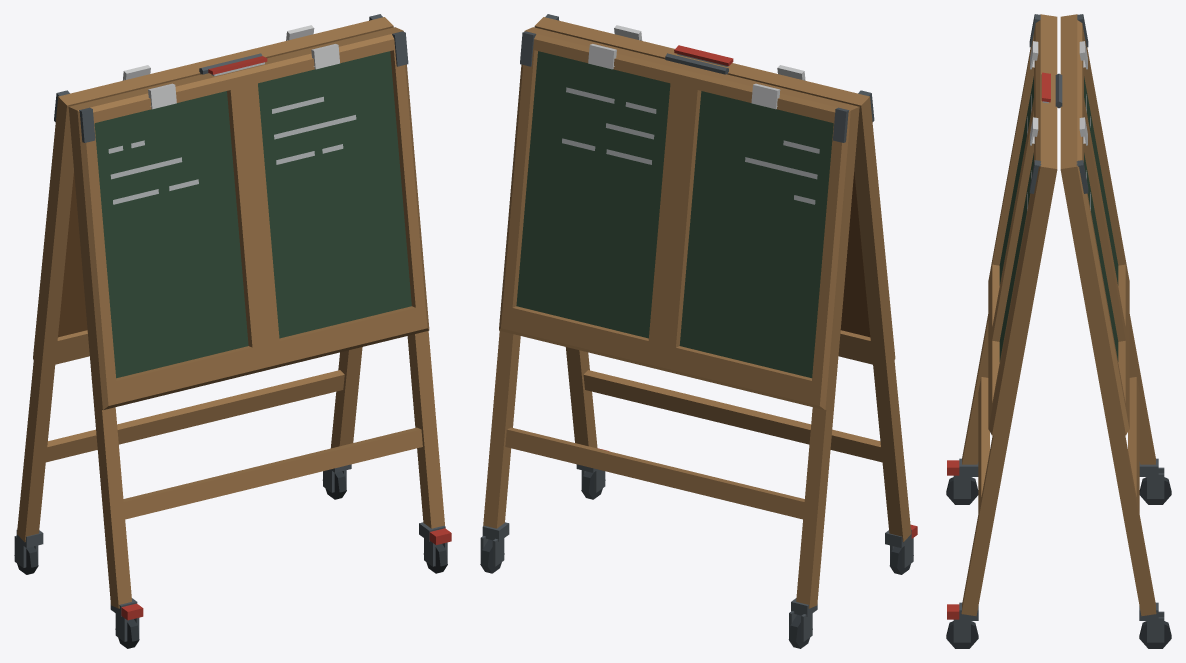
The model's file is wheeled-easel-board-6f9204.glb.
3 views of the same model, side by side, from view 1: azimuth 30°, elevation 25°; view 2: azimuth 150°, elevation 25°; view 3: azimuth 270°, elevation 25° (orthographic). The views are drawn at different scales.
Visible parts, largest first — view 1: leaf-front, easel, castor-fr, castor-fl, castor-rl; view 2: easel, leaf-front, castor-rr, castor-fl, castor-rl; view 3: easel, leaf-front, castor-fl, castor-fr, castor-rl, castor-rr, tyre-fr, tyre-rr, tyre-fl, tyre-rl.
Boxes of the visible parts, box(x1,y1,x2,y2) form: leaf-front: box(68, 27, 444, 608); easel: box(17, 14, 393, 541); castor-fr: box(419, 522, 451, 566); castor-fl: box(110, 598, 143, 641); castor-rl: box(14, 530, 43, 567); easel: box(483, 27, 859, 608); leaf-front: box(534, 14, 911, 542); castor-rr: box(480, 522, 509, 566); castor-fl: box(885, 524, 917, 567); castor-rl: box(789, 598, 817, 641); easel: box(1055, 14, 1156, 616); leaf-front: box(961, 14, 1057, 616); castor-fl: box(947, 458, 978, 498); castor-fr: box(947, 602, 978, 642); castor-rl: box(1139, 458, 1164, 498); castor-rr: box(1139, 602, 1164, 642); tyre-fr: box(946, 621, 978, 648); tyre-rr: box(1139, 621, 1171, 648); tyre-fl: box(946, 477, 978, 504); tyre-rl: box(1139, 477, 1171, 504).
Bounding box in the file's own units: 1.2 × 1.8 × 0.75.
